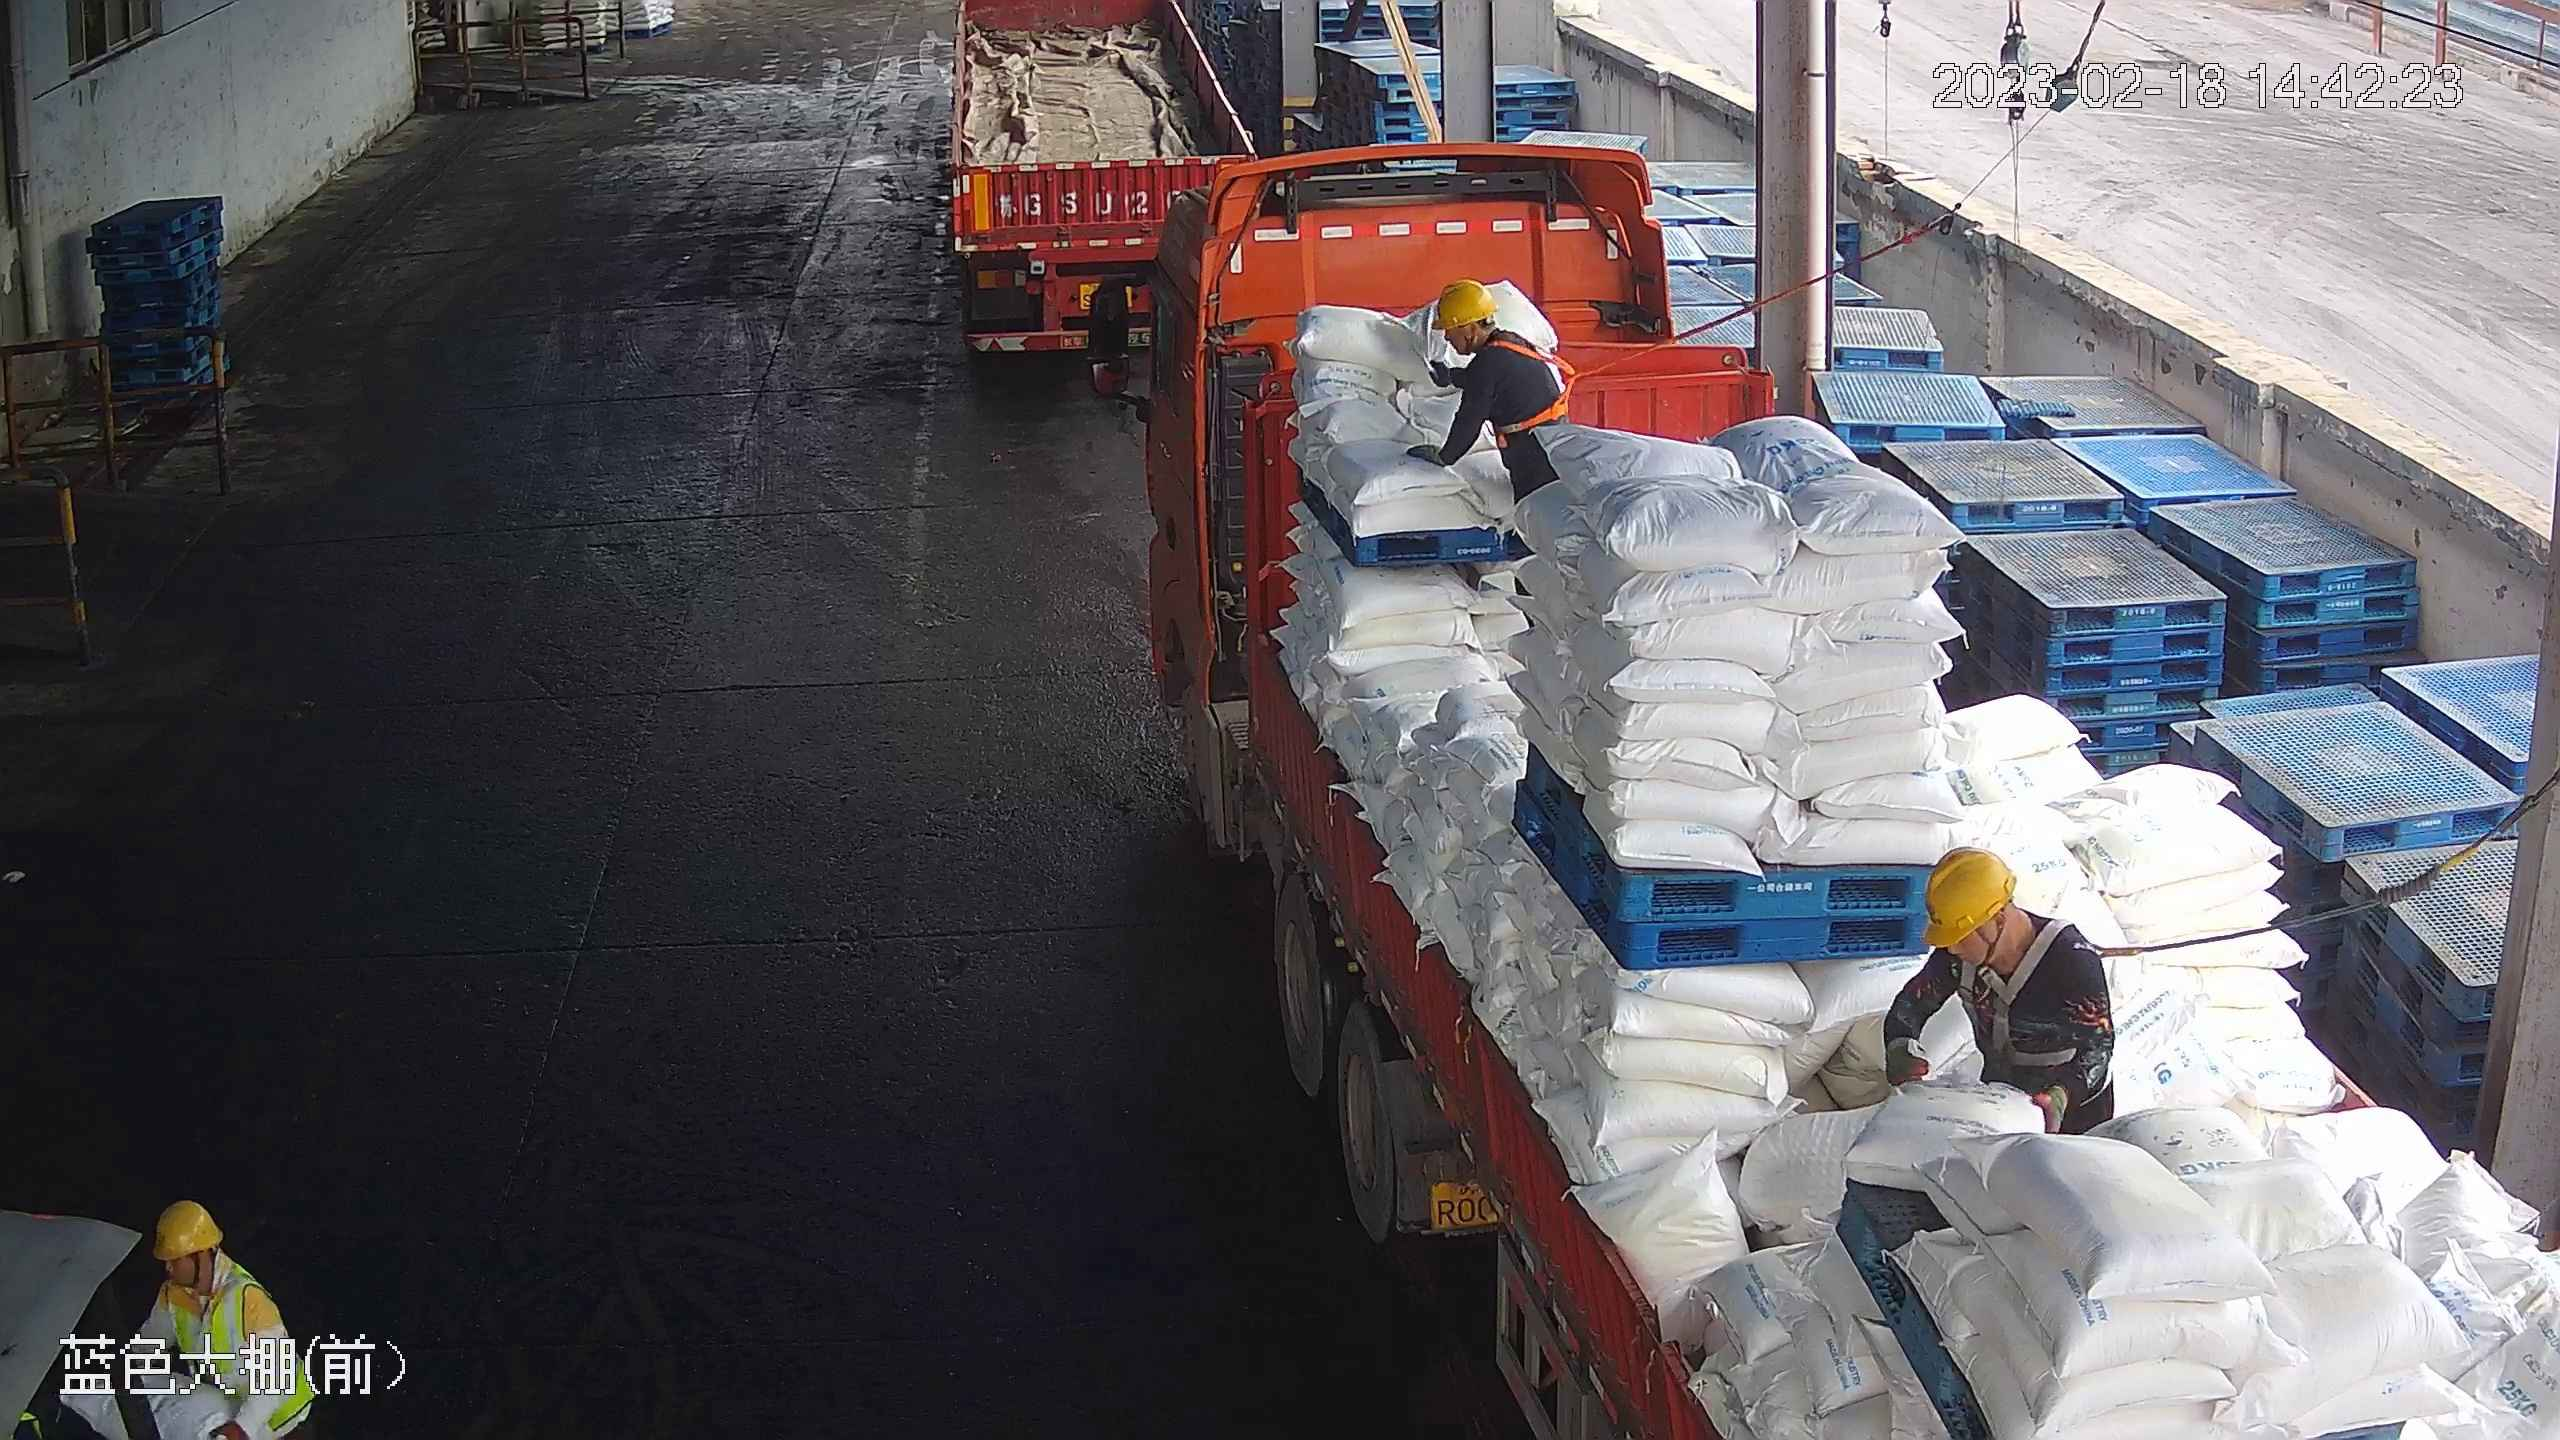belt: (1964, 924, 2069, 1067), (1481, 330, 1576, 430)
head: (1912, 844, 2102, 1004), (127, 1197, 277, 1328), (1433, 277, 1546, 380)
helmet: (1920, 844, 2020, 948), (149, 1198, 224, 1260), (1430, 276, 1497, 330)
people: (1878, 845, 2118, 1150), (1409, 278, 1573, 516)
truck: (1086, 143, 2553, 1439), (947, 3, 1261, 359)
